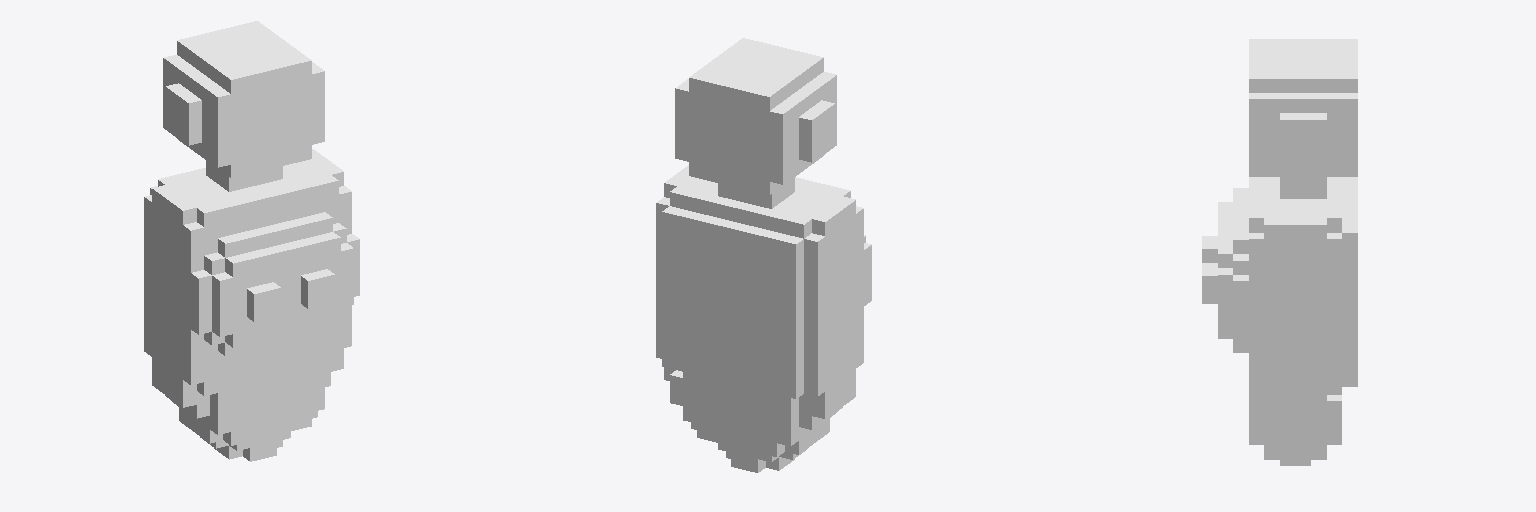
File: smgbot.obj
3 views of the same model, side by side, from view 1: azimuth 30°, elevation 25°; view 2: azimuth 150°, elevation 25°; view 3: azimuth 270°, elevation 25° (orthographic).
Visible parts, largest first — view 1: object 1; view 2: object 1; view 3: object 1.
Boxes of the visible parts, x1=… form: object 1: x1=144, y1=21, x2=359, y2=461; object 1: x1=656, y1=38, x2=871, y2=472; object 1: x1=1202, y1=39, x2=1357, y2=465.
Size of the model in its own units: 1.2 by 2.8 by 1.